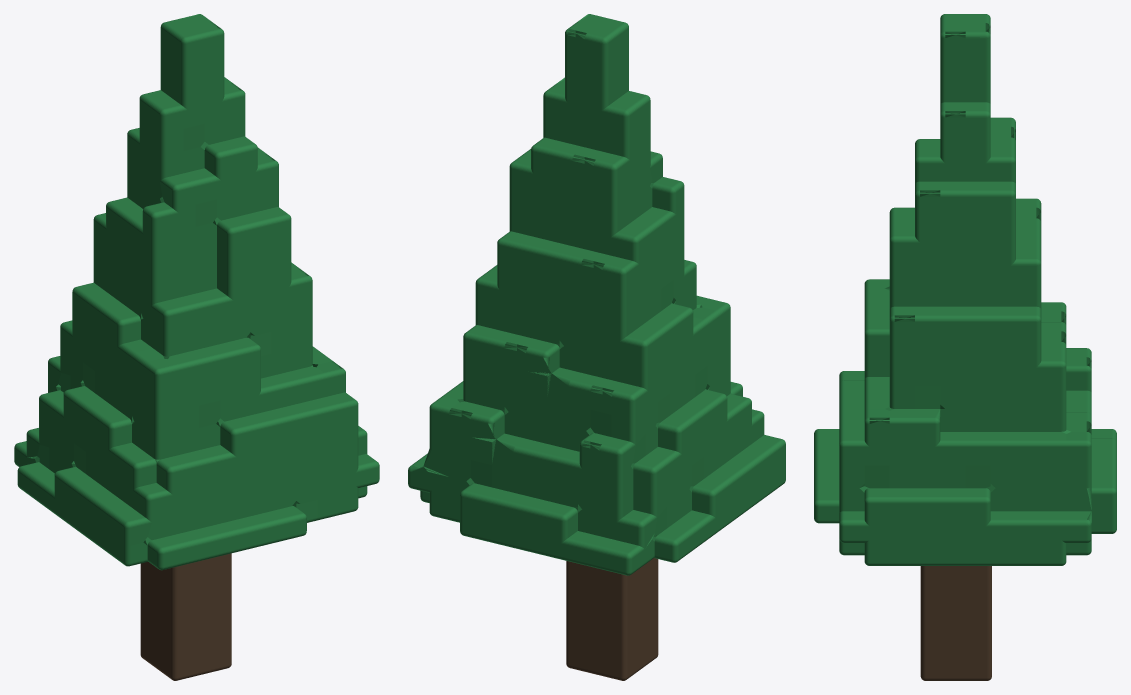
The picture shows the model from 3 angles, left to right: view 1: azimuth 30°, elevation 25°; view 2: azimuth 150°, elevation 25°; view 3: azimuth 270°, elevation 25°; orthographic projection. The views are drawn at different scales.
Visible parts, largest first — view 1: BipJamExport_ice_tree1; view 2: BipJamExport_ice_tree1; view 3: BipJamExport_ice_tree1.
Part boxes in pixels (x1=…): BipJamExport_ice_tree1: x1=14, y1=14, x2=379, y2=680; BipJamExport_ice_tree1: x1=408, y1=14, x2=785, y2=680; BipJamExport_ice_tree1: x1=814, y1=14, x2=1116, y2=680.
Bounding box in the file's own units: 0.8704 × 2.06 × 0.8704.
